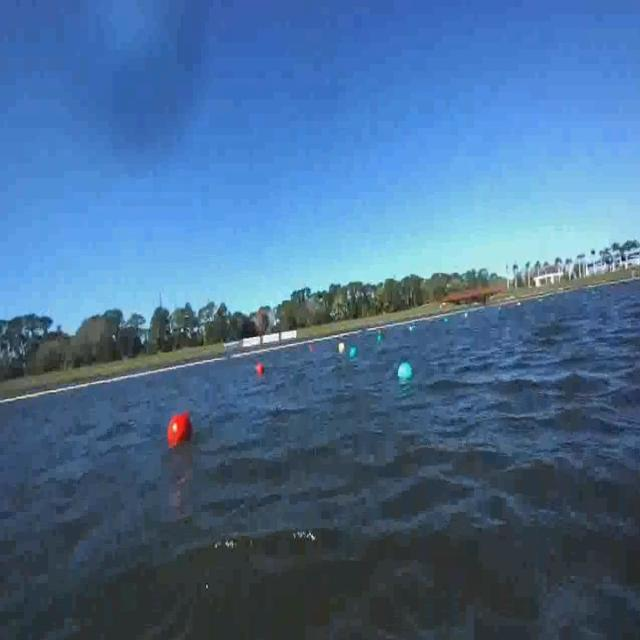green-buoy: (400, 360, 414, 381), (349, 346, 358, 359), (378, 335, 383, 344)
red-buoy: (166, 412, 194, 452), (256, 361, 264, 375)
yellow-buoy: (339, 343, 346, 354)
